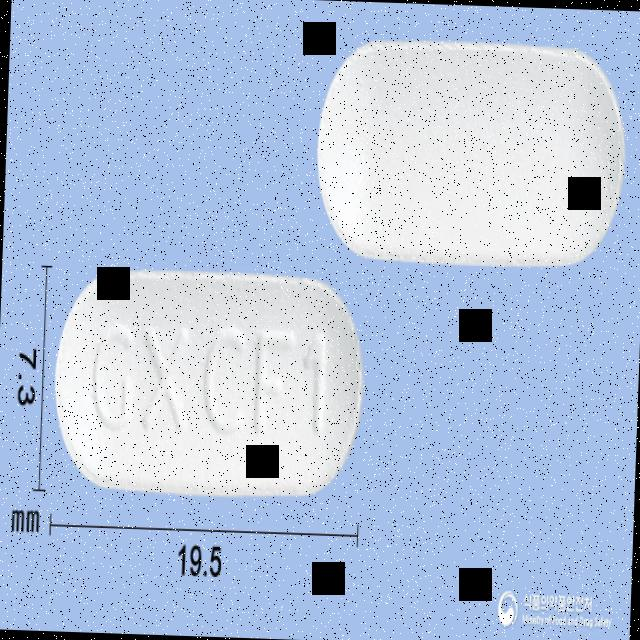Valtrex Tab: (51, 262, 366, 498)
